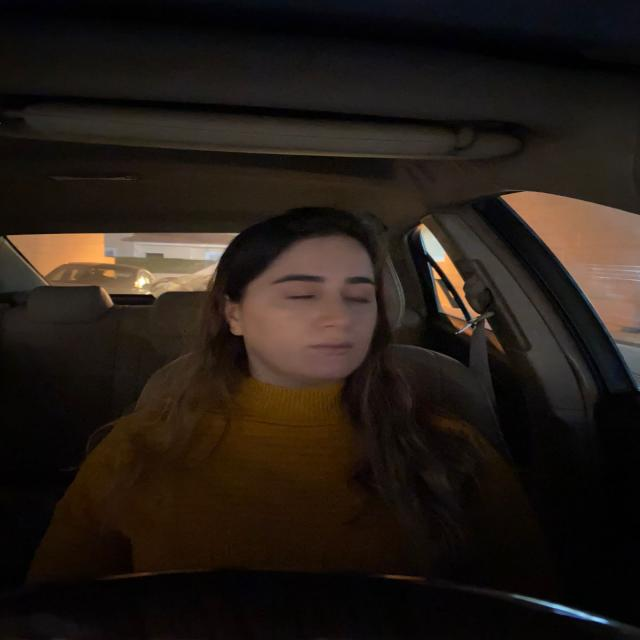drowsy: (205, 201, 396, 403)
